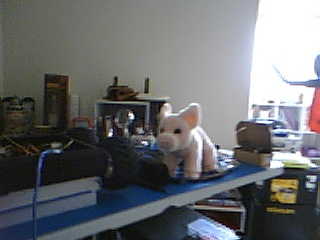piggy: (156, 102, 218, 182)
